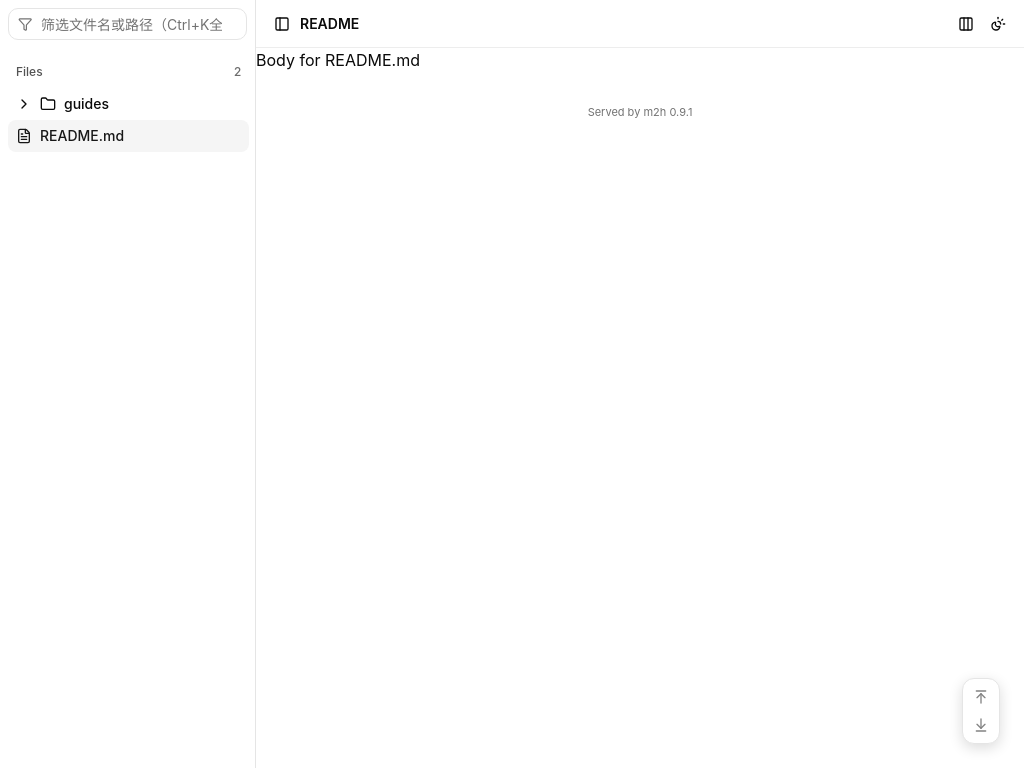
theme repaint scheduling › retires queued repaints when the document body swaps
expect the text "Body for README.md" is shown: met, box x1=256 y1=50 x2=420 y2=70
Click the button named "显示主题：" at (998, 24), box x1=984 y1=10 x2=1012 y2=38
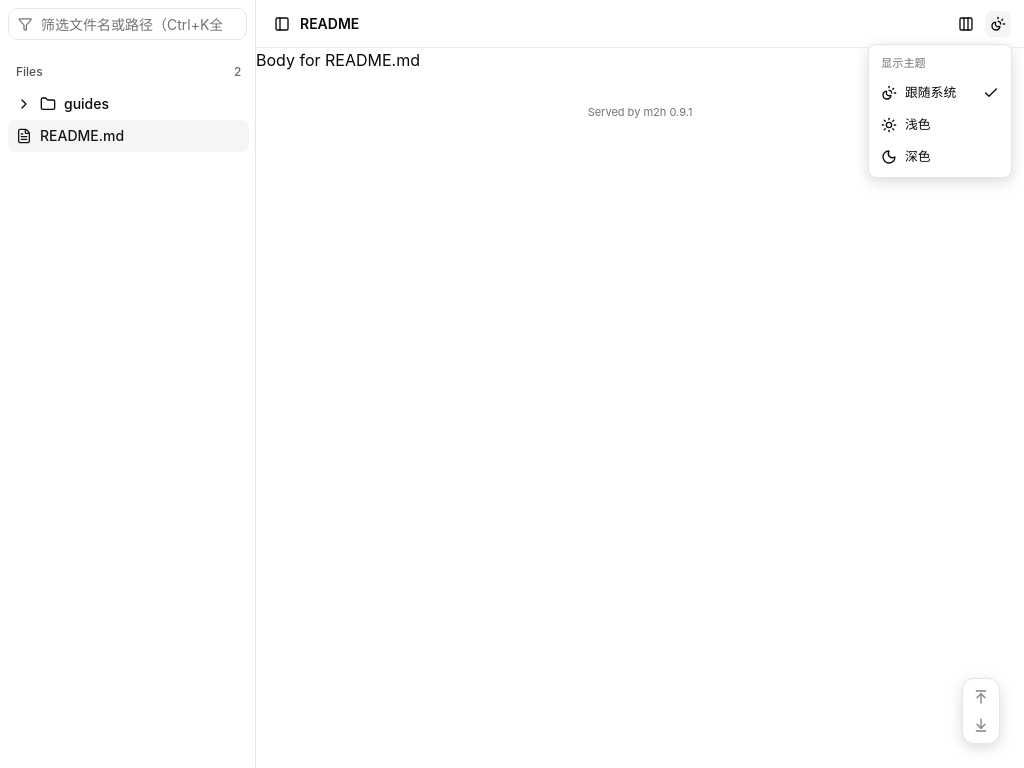
Click the menu item "深色" at (906, 157), box x1=881 y1=149 x2=931 y2=165
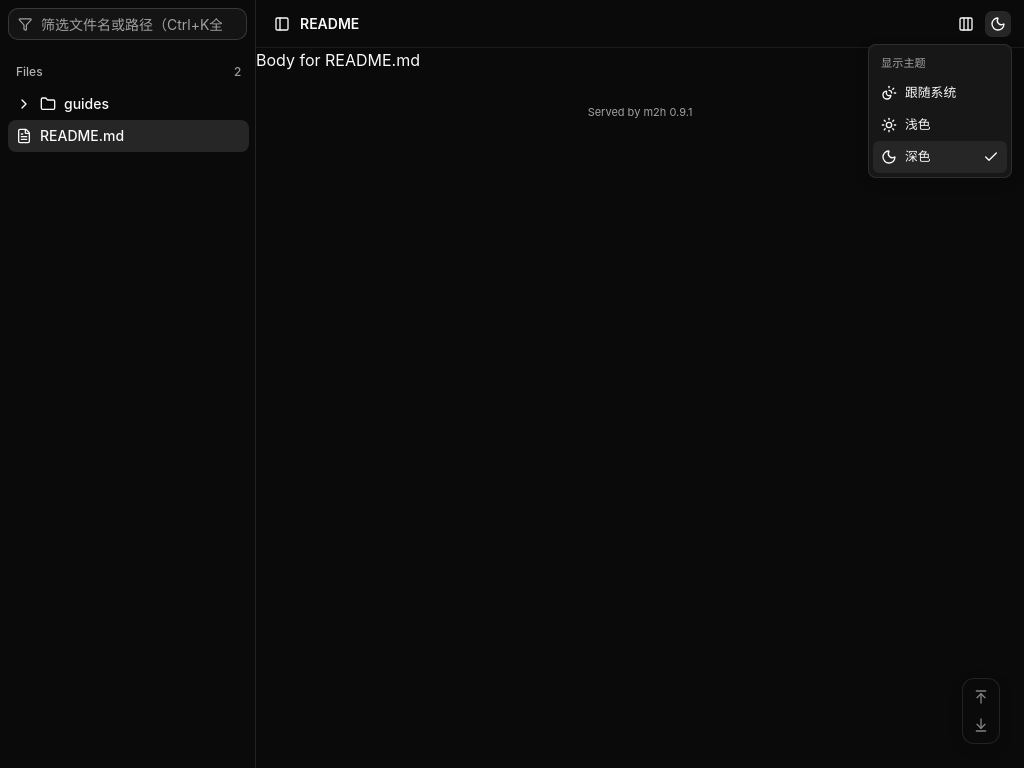
Click the button "guides" at (129, 104), box x1=8 y1=88 x2=249 y2=120
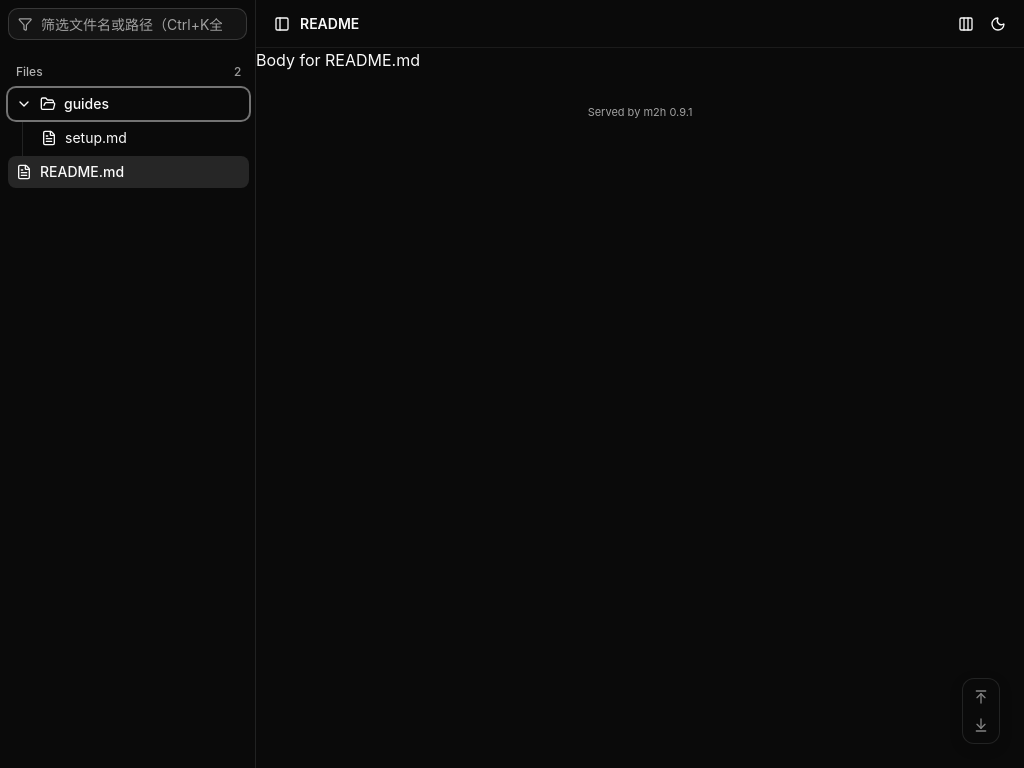
Click the button with aria-label "setup.md，guides/setup.md" at (141, 138), box x1=33 y1=122 x2=249 y2=154
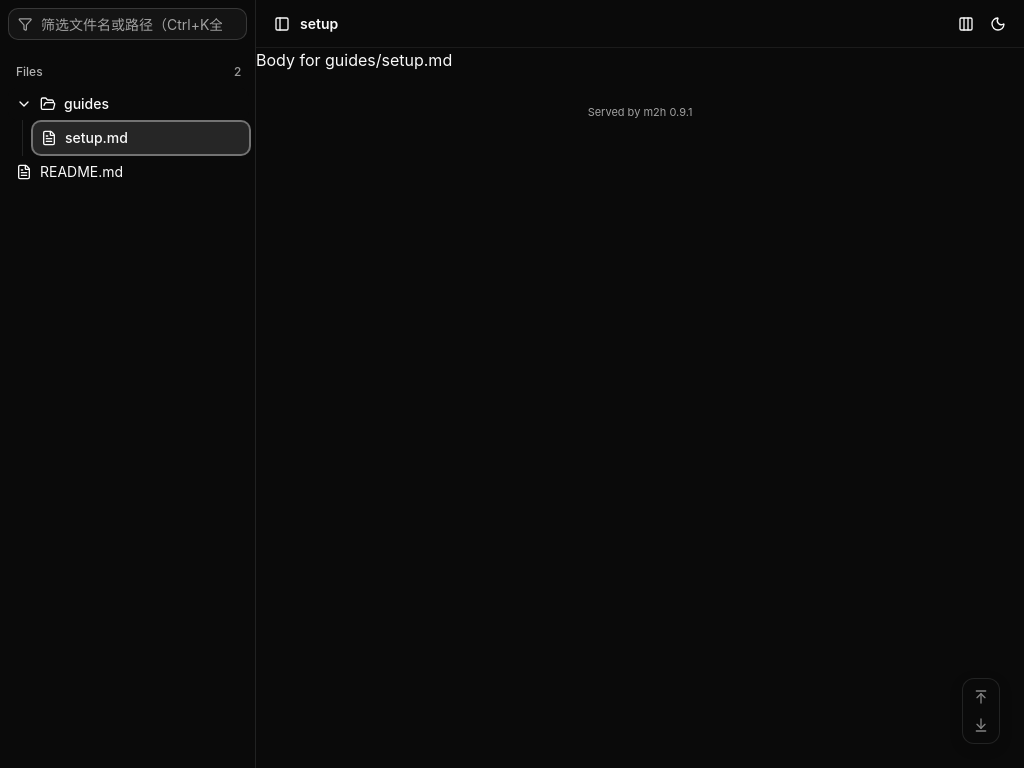
expect the text "Body for guides/setup.md" is shown: met, box x1=256 y1=50 x2=452 y2=70
